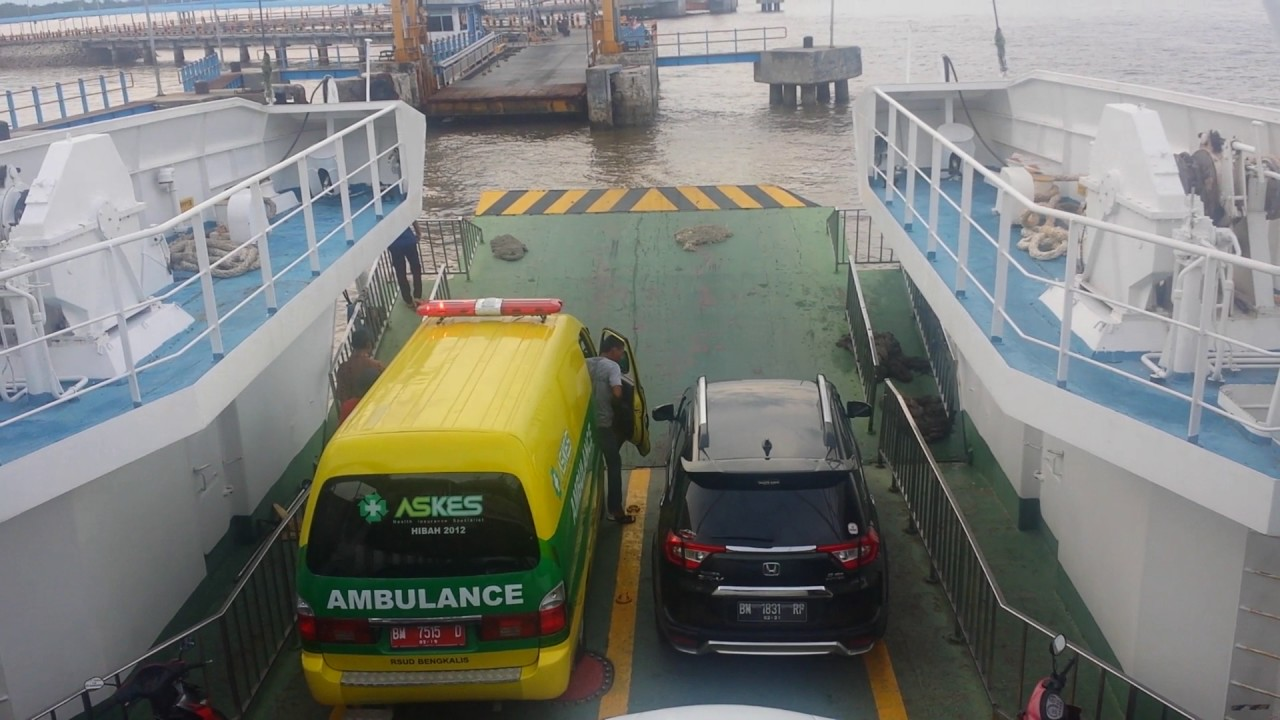plate: (386, 625, 467, 648), (734, 600, 811, 622)
